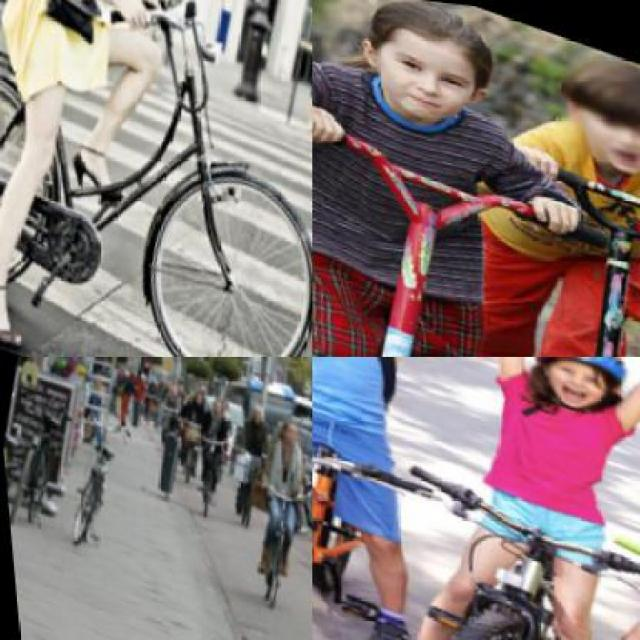With Helmet: (514, 357, 637, 417)
Without Helmet: (357, 0, 505, 120), (542, 31, 638, 177), (268, 404, 303, 444), (241, 388, 265, 422)
